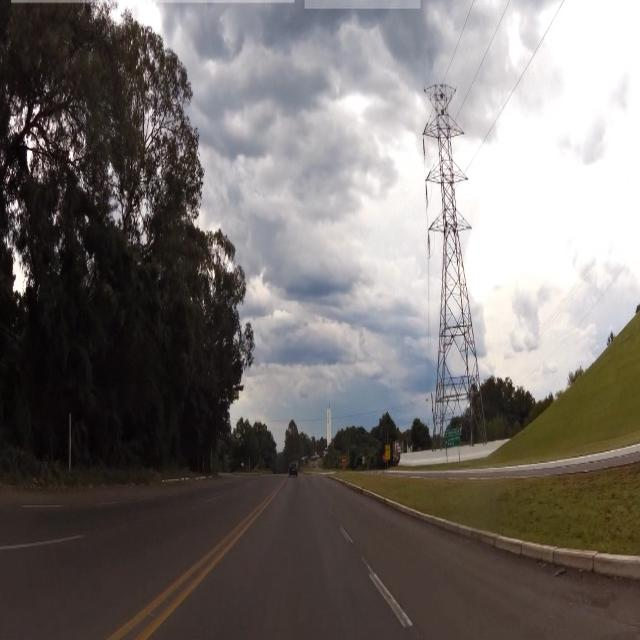I-4: (446, 428, 462, 446)
